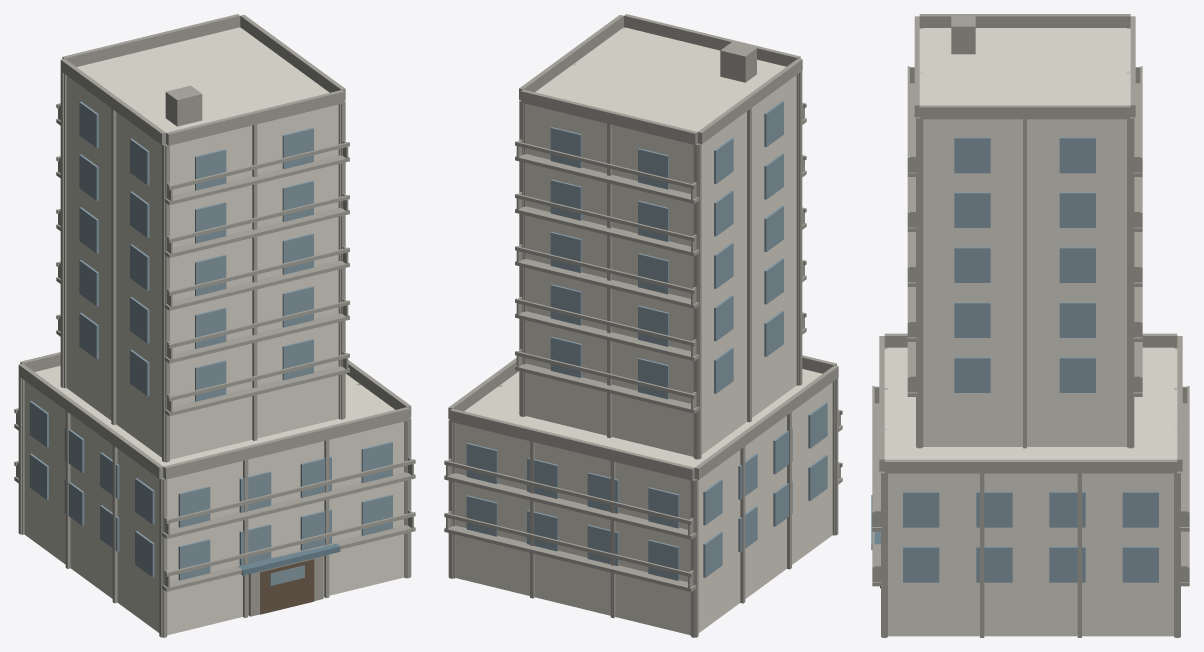
File: residential_2x2_b.glb
The picture shows the model from 3 angles, left to right: view 1: azimuth 30°, elevation 25°; view 2: azimuth 150°, elevation 25°; view 3: azimuth 270°, elevation 25°; orthographic projection. The views are drawn at different scales.
Parts seen in each view (by area): view 1: residential_2x2_b_0; view 2: residential_2x2_b_0; view 3: residential_2x2_b_0.
Boxes of the visible parts, x1,y1,x2,y2 form: residential_2x2_b_0: (14,14,415,637); residential_2x2_b_0: (444,14,842,637); residential_2x2_b_0: (871,14,1189,637).
Size of the model in its own units: 15 by 28.5 by 15.75.
